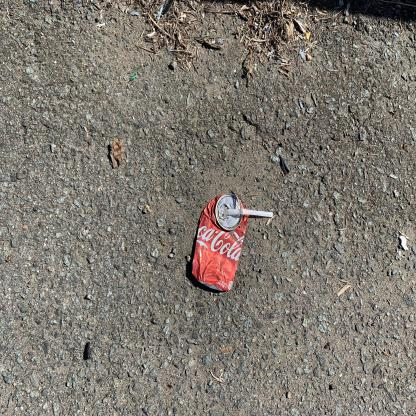Drink can: (192, 193, 249, 291)
Other plastic bottle: (279, 154, 291, 175)
Plastic straw: (225, 209, 273, 217)
Pop tab: (219, 207, 229, 219)
